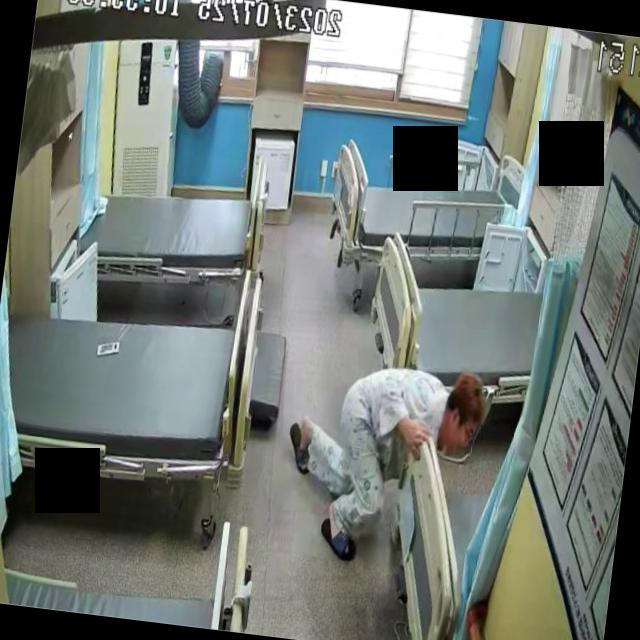bed: (0, 289, 242, 490), (356, 229, 548, 426), (328, 134, 526, 278), (74, 154, 268, 296)
fall: (276, 350, 488, 575)
patient: (274, 349, 489, 576)
